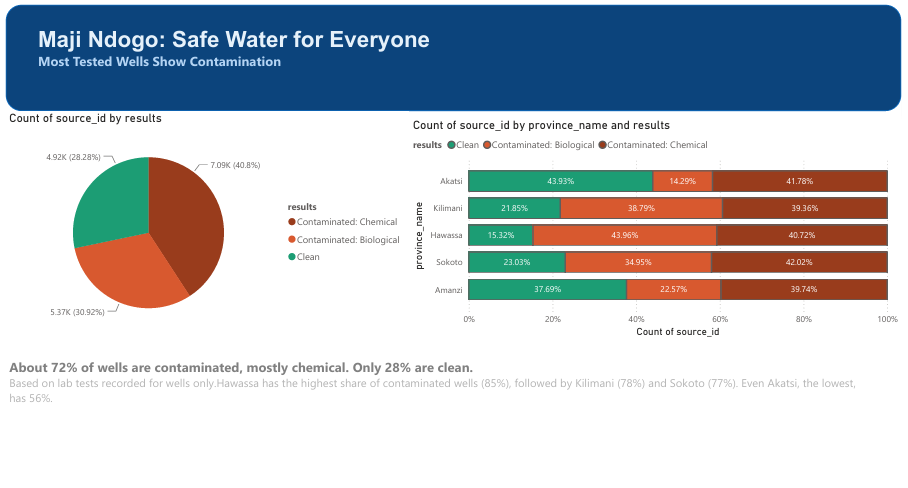

What the dashboard file says about the page in this screenshot:
{"tool":"powerbi","page":{"name":"Pollution","canvas":[1280,720],"ordinal":2},"visuals":[{"type":"shape","box":[0,0,1280.4,152.3],"z":0},{"type":"textbox","box":[40.8,26.3,1013.8,99.7],"z":1000},{"type":"pieChart","fields":{"Category":["md_water_services well_pollution.results"],"Y":["CountNonNull(md_water_services well_pollution.source_id)"]},"box":[0,152,576.9,328.9],"z":2000},{"type":"textbox","box":[0,499.9,1232.3,89.5],"z":3000},{"type":"hundredPercentStackedBarChart","fields":{"Category":["md_water_services pollution_analysis.province_name"],"Series":["md_water_services pollution_analysis.results"],"Y":["CountNonNull(md_water_services pollution_analysis.source_id)"]},"box":[576.9,160.7,703.1,320.3],"z":5000}]}

Visuals, with their boxes on the page's 1280x720 design canvas (x1, y1, x2, y2). These are canvas units, not pixel positions in the 908x488 screenshot, which may show the page scaled, cropped or inside an application window:
shape: region(0, 0, 1280, 152)
textbox: region(41, 26, 1055, 126)
pieChart - md_water_services well_pollution.results x CountNonNull(md_water_services well_pollution.source_id): region(0, 152, 577, 481)
textbox: region(0, 500, 1232, 589)
hundredPercentStackedBarChart - md_water_services pollution_analysis.province_name x md_water_services pollution_analysis.results: region(577, 161, 1280, 481)
